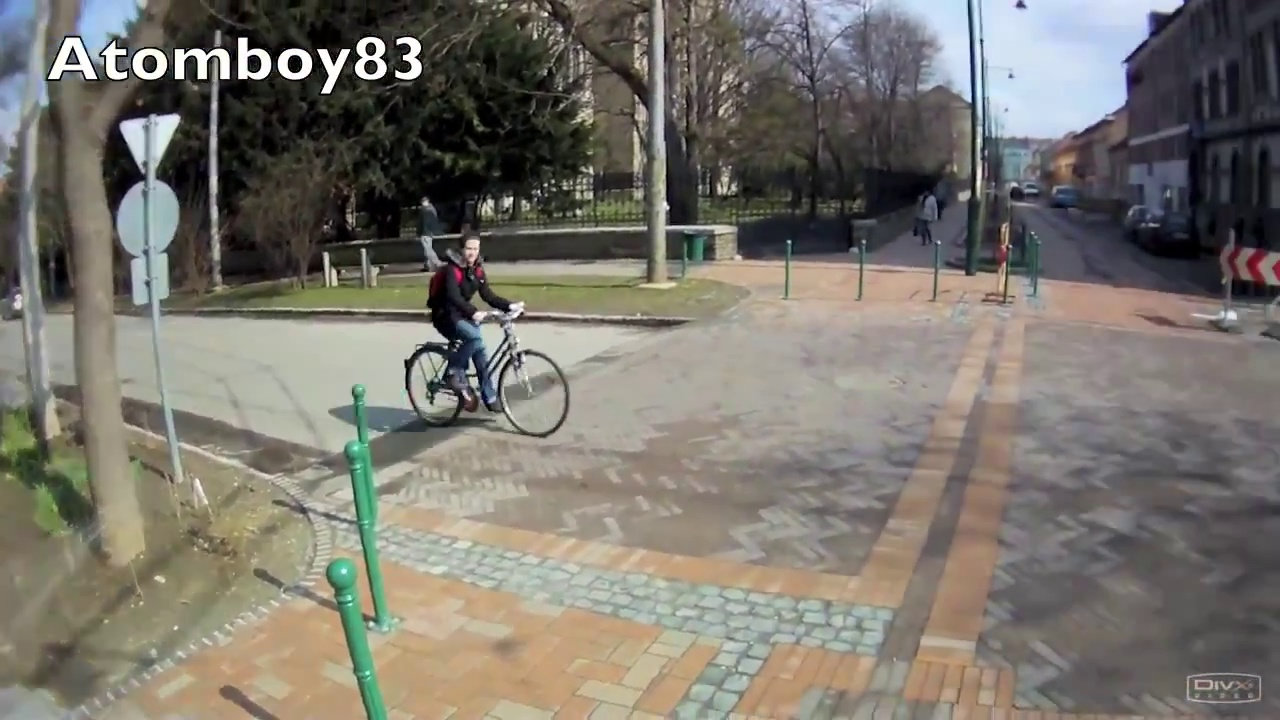cyclist_side: (393, 223, 579, 441)
